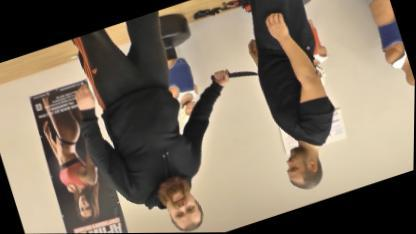knife: (206, 57, 258, 92)
